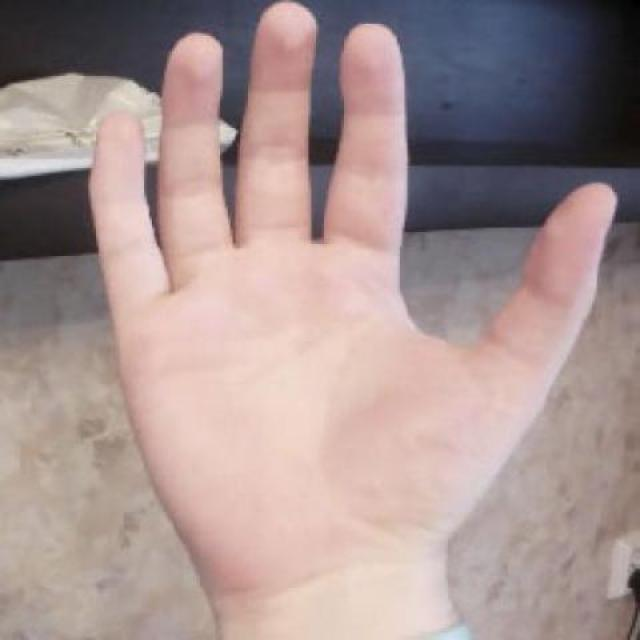Open Hand: (54, 2, 625, 639)
